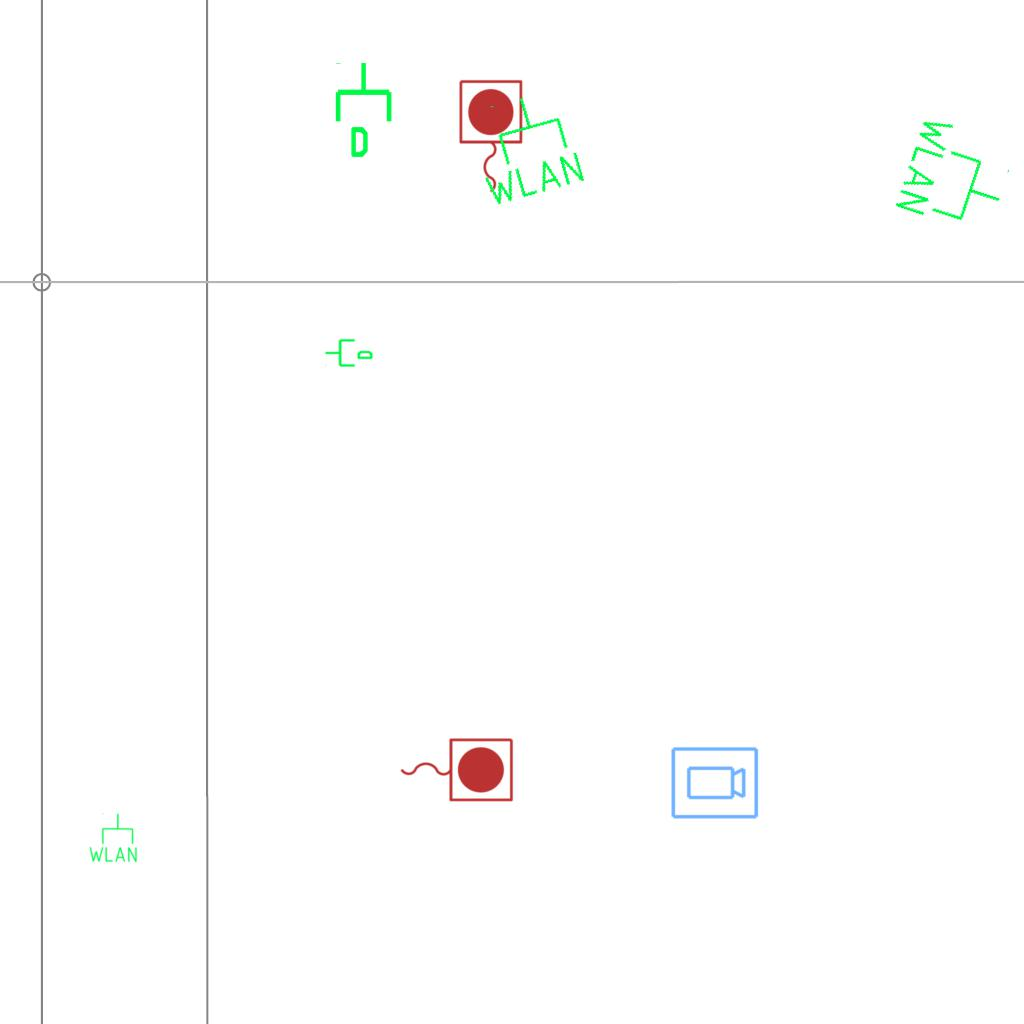Datenanschluss_einfach: (331, 60, 400, 160), (324, 335, 374, 369)
KFO_Kamera_mit_Festobjektiv: (669, 745, 760, 822)
WLAN: (890, 109, 1022, 242), (460, 83, 590, 212), (87, 812, 139, 864)
Zugtaster: (395, 733, 517, 805), (454, 76, 526, 198)
